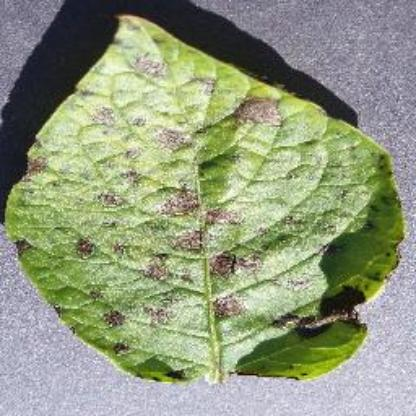Early-Blight: (7, 12, 410, 388)
